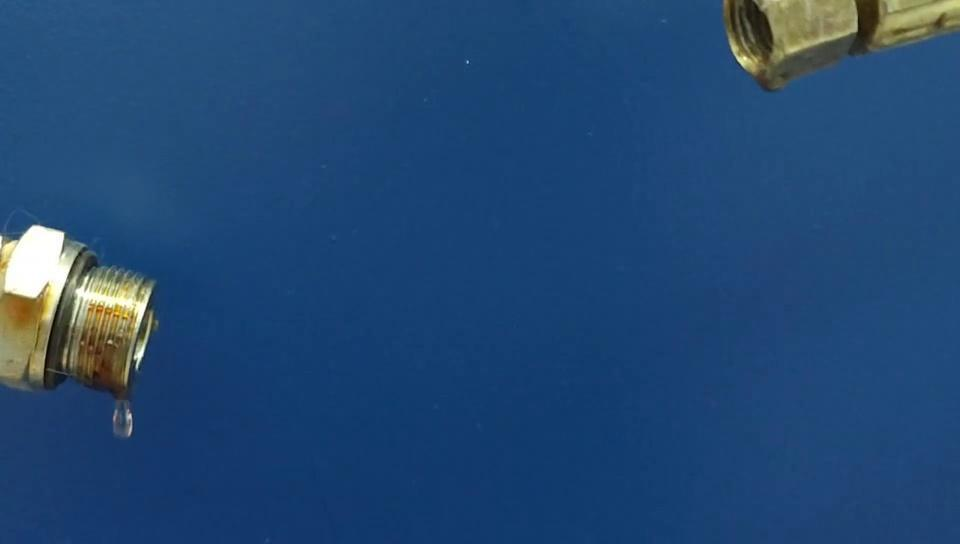water drop: (112, 396, 134, 440), (756, 74, 786, 90)
